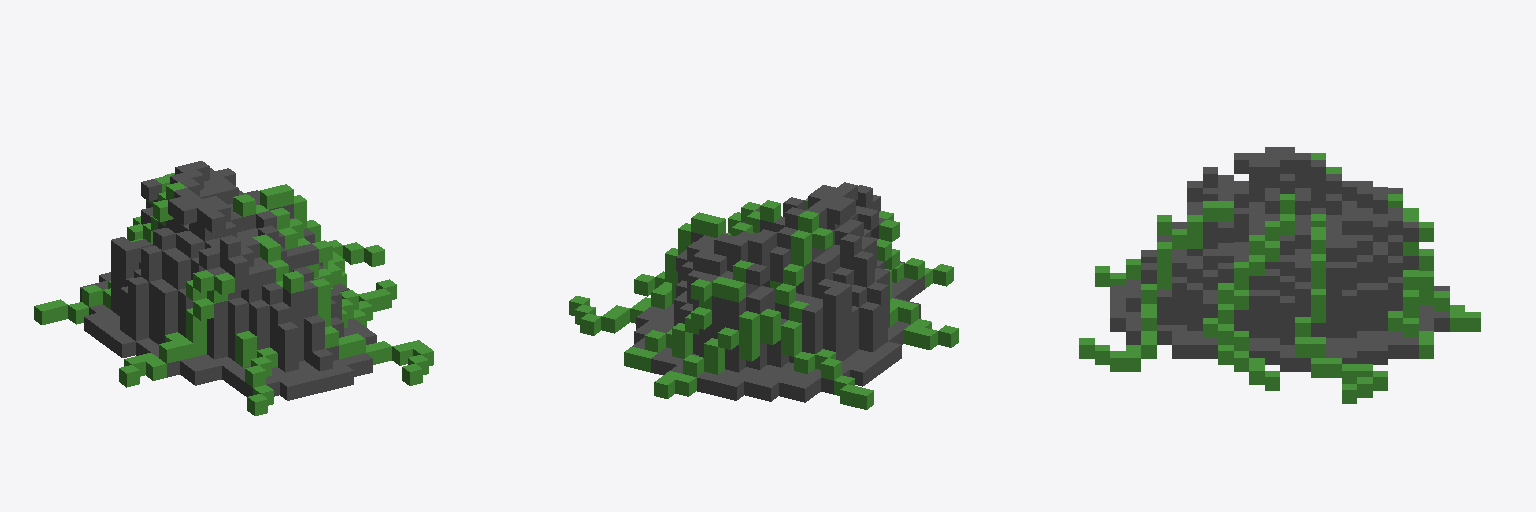
3 views of the same model, side by side, from view 1: azimuth 30°, elevation 25°; view 2: azimuth 150°, elevation 25°; view 3: azimuth 270°, elevation 25° (orthographic).
Visible parts, largest first — view 1: object 1; view 2: object 1; view 3: object 1.
Part boxes in pixels (x1,y1,x2,y2): object 1: (34,161,433,415); object 1: (569,182,958,409); object 1: (1079,147,1480,403).
Bounding box in the file's own units: 2.4 × 1 × 2.6.
Materials: 1 (1 with a texture image).